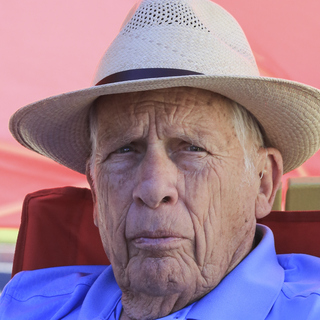eye: (104, 139, 147, 164), (171, 139, 215, 163)
